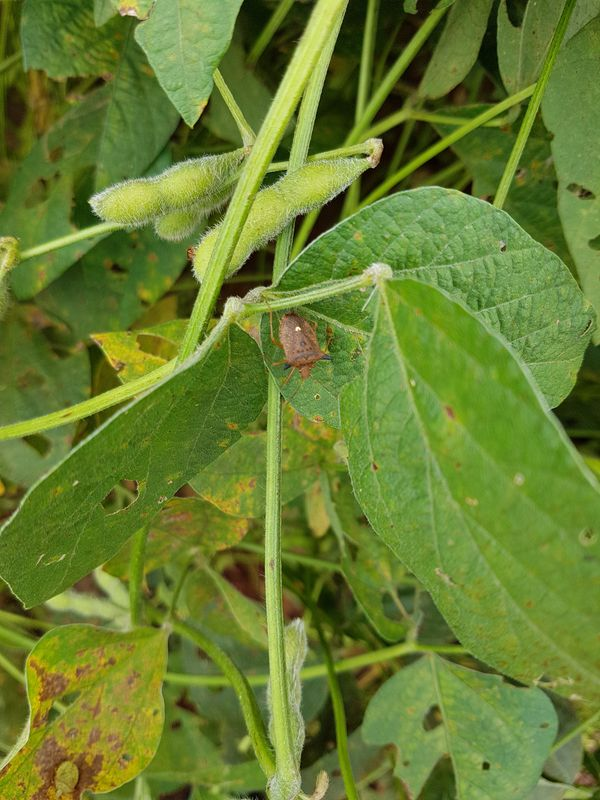Euschistus_heros_adulto: (258, 296, 344, 386)
Euschistus_heros_ninfa: (45, 755, 87, 800)
